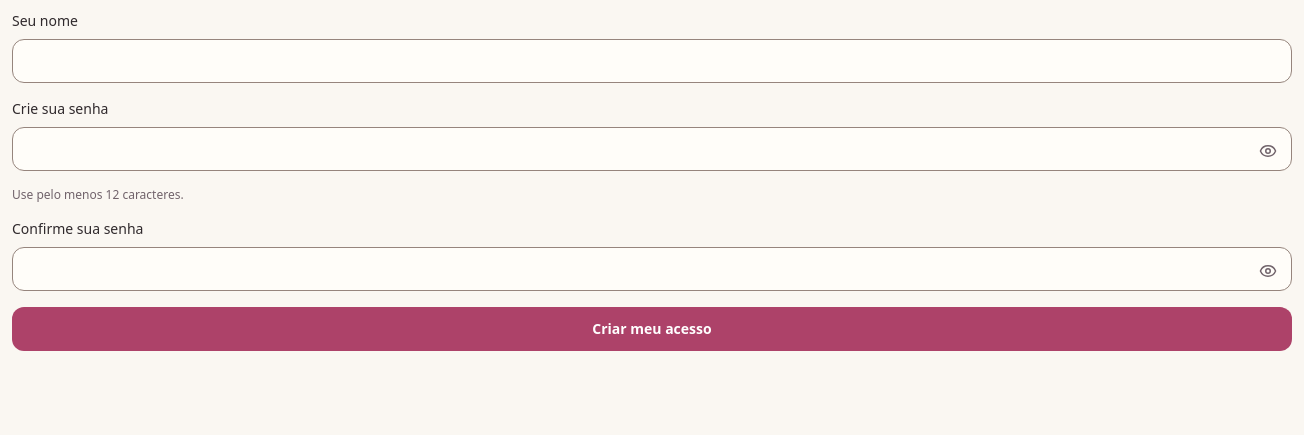
it: limites e estados adicionais › confirmação divergente não envia o aceite
Type "Nome de teste" into the field labelled "Seu nome" at (652, 61), box x1=12 y1=39 x2=1292 y2=83
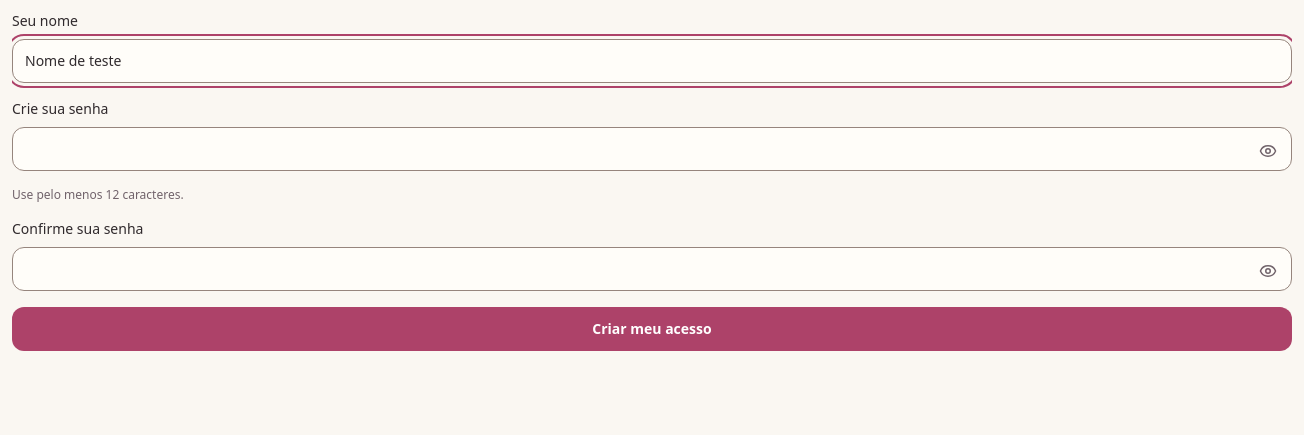
Type "password-example" into the password field labelled "Crie sua senha" at (652, 149), box x1=12 y1=127 x2=1292 y2=171
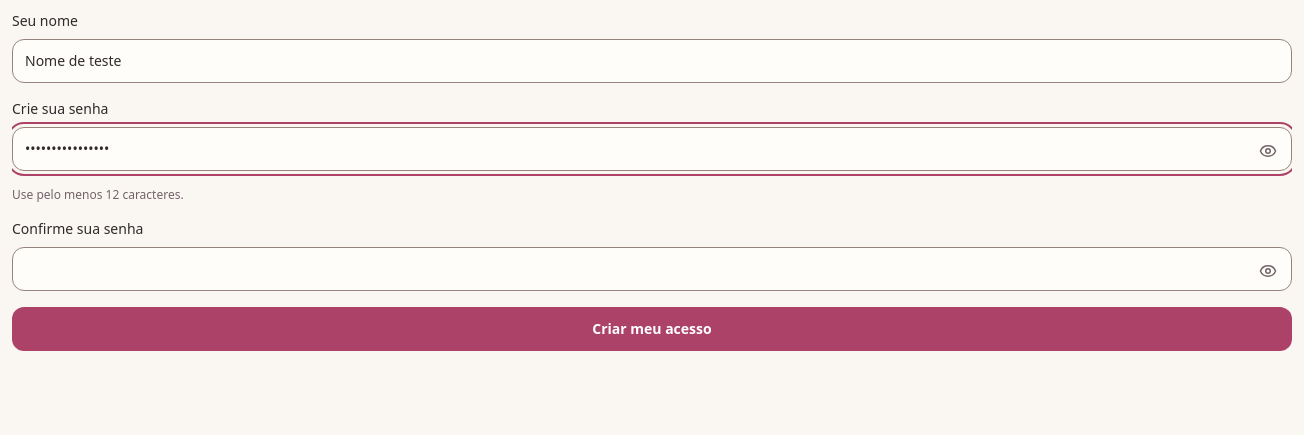
Type "different-example" into the password field labelled "Confirme sua senha" at (652, 269), box x1=12 y1=247 x2=1292 y2=291
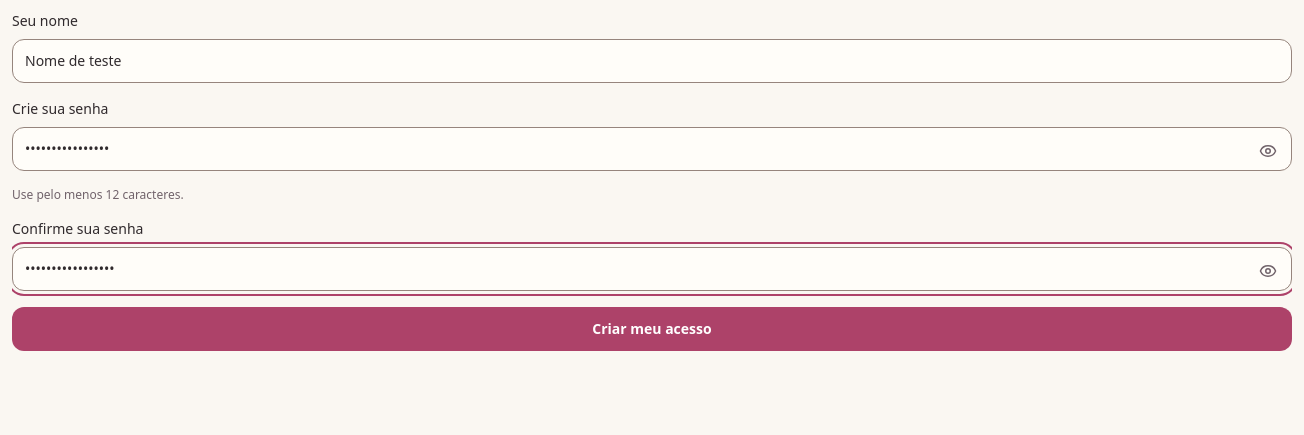
Click the button "Criar meu acesso" at (652, 329), box x1=12 y1=307 x2=1292 y2=351
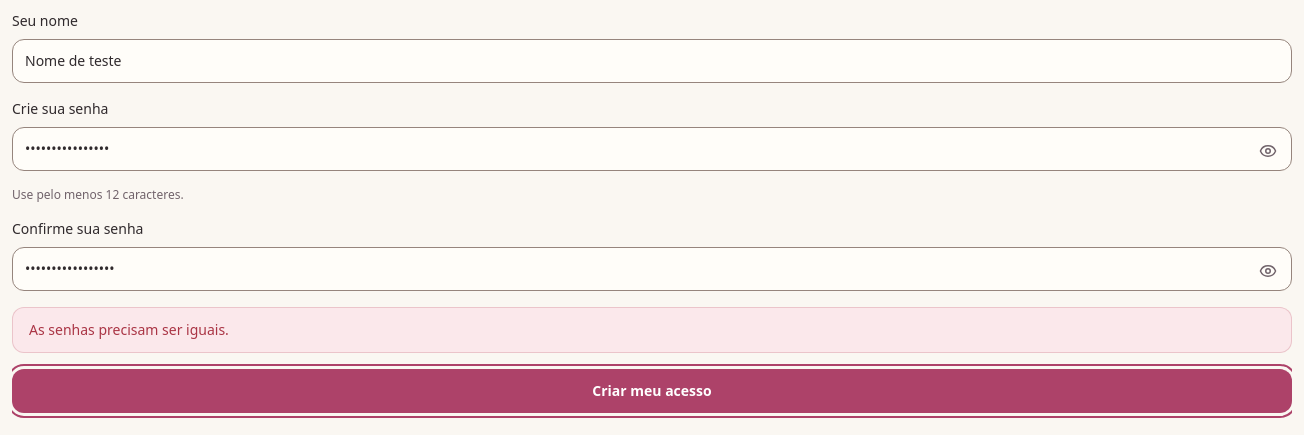
Check: the message shows "senhas precisam ser iguais", box x1=29 y1=320 x2=229 y2=339
